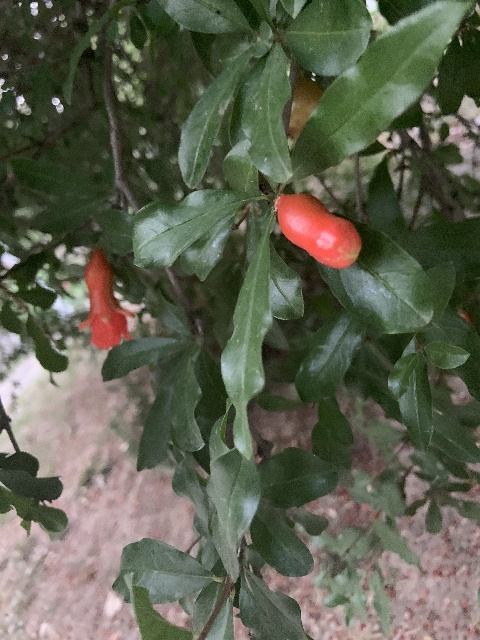bud: (276, 192, 362, 270)
flower: (77, 248, 135, 350)
